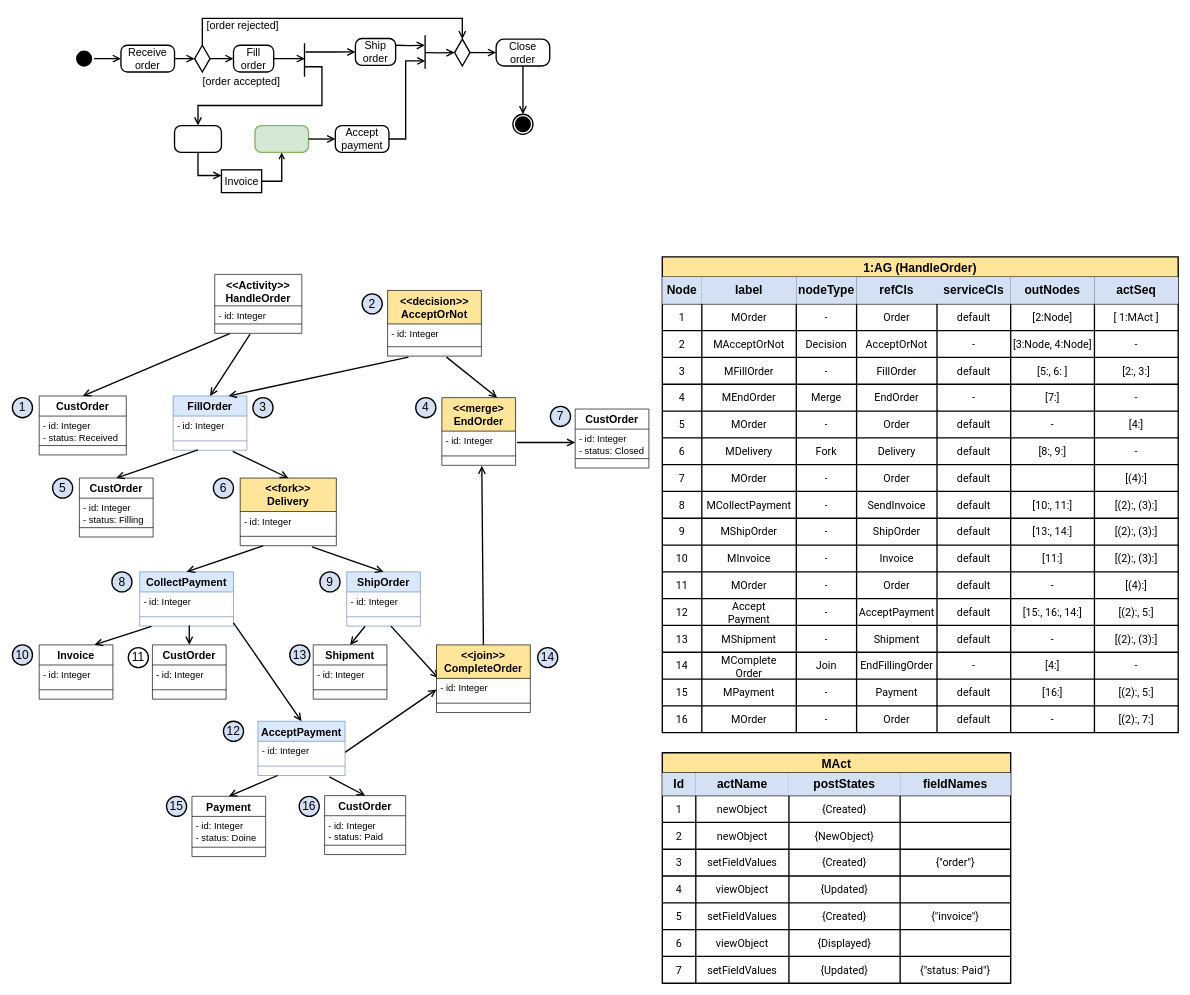
Some shapes in this 1190 by 995 pixel diagram are drawn without their labels. The shapes that lost their labels are listed below. From the top down, each one's centre as x and y in pixels, then its label:
At (198,139): "Send invoice".
At (281,139): "Make payment".
